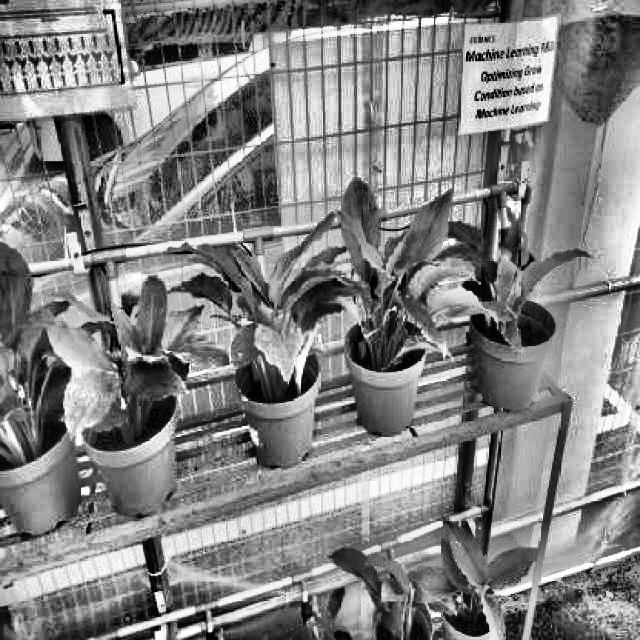plants: (158, 216, 358, 393), (49, 281, 220, 447), (0, 240, 71, 466)
